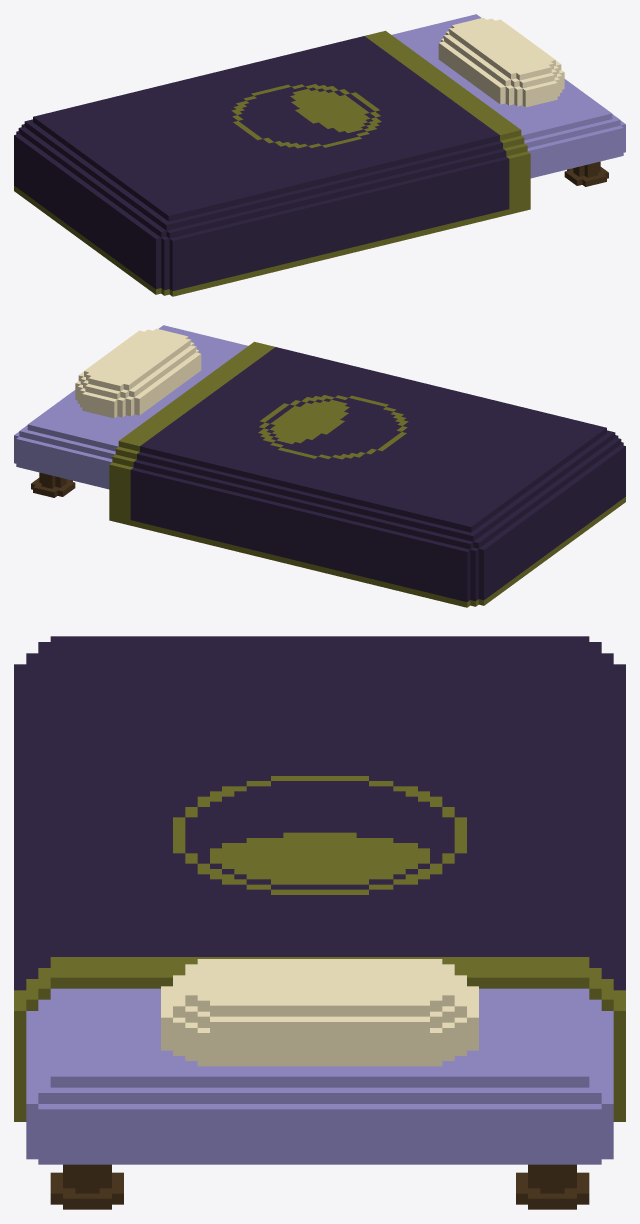
File: WizBed.obj
3 views of the same model, one above another, from view 1: azimuth 30°, elevation 25°; view 2: azimuth 150°, elevation 25°; view 3: azimuth 270°, elevation 25° (orthographic). The views are drawn at different scales.
Parts seen in each view (by area): view 1: WizBed; view 2: WizBed; view 3: WizBed.
Boxes of the visible parts, x1,y1,x2,y2 form: WizBed: (14,14,625,296); WizBed: (14,325,625,607); WizBed: (14,636,625,1209).
Bounding box in the file's own units: 88 × 17 × 50.
Materials: 1 (1 with a texture image).
